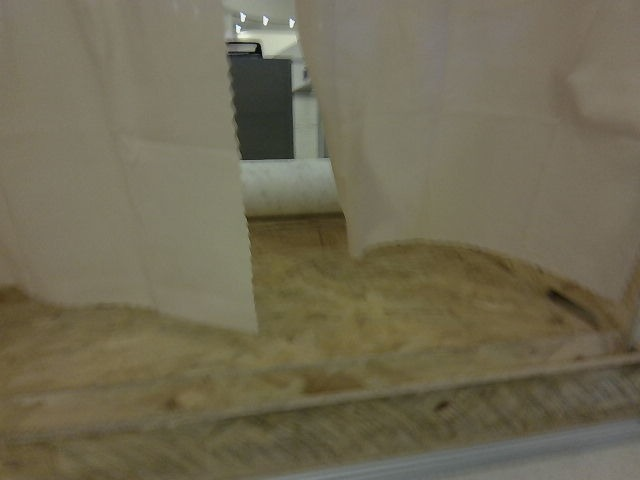curtain: (0, 0, 640, 346)
